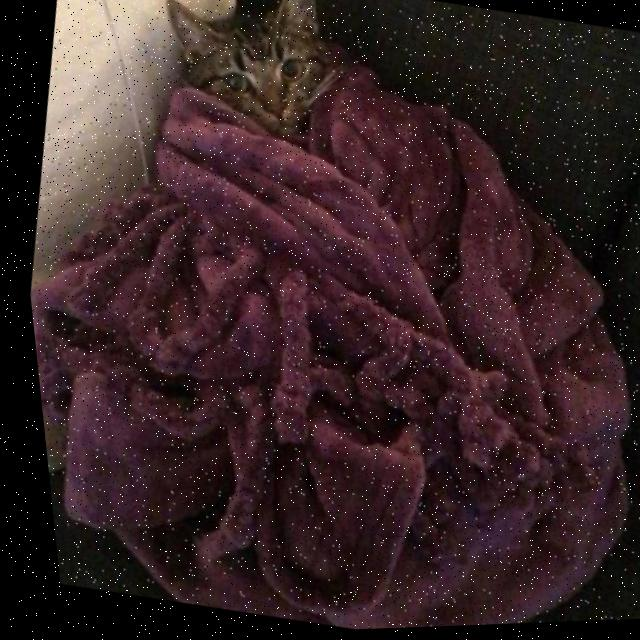Cats: (123, 0, 359, 146)
